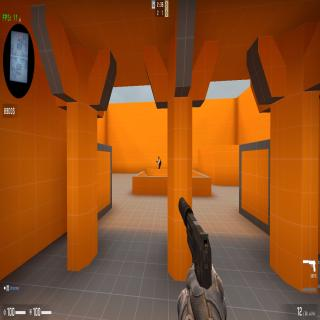T-Body: (157, 156, 161, 169)
T-Head: (158, 156, 160, 160)
